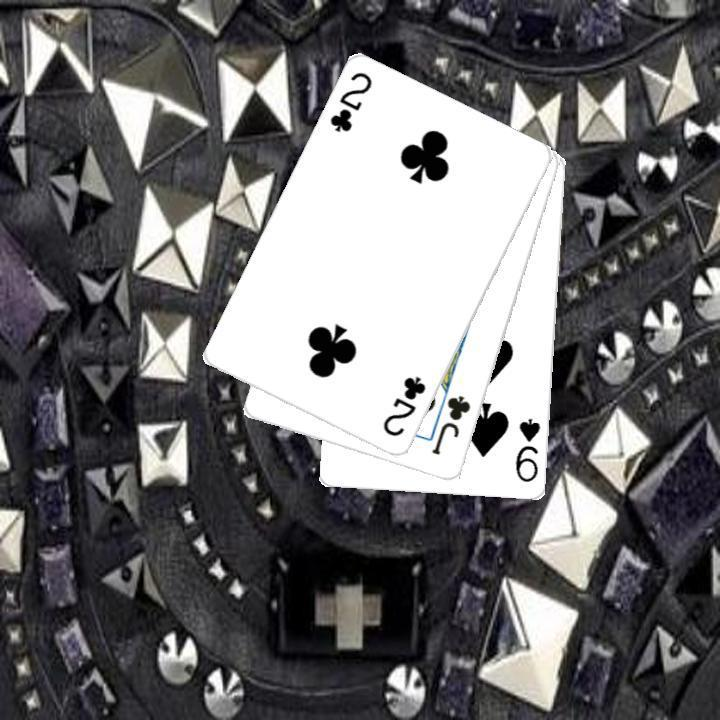2: (378, 372, 428, 440), (326, 68, 375, 135)
9: (511, 414, 543, 485)
J: (428, 392, 473, 458)
